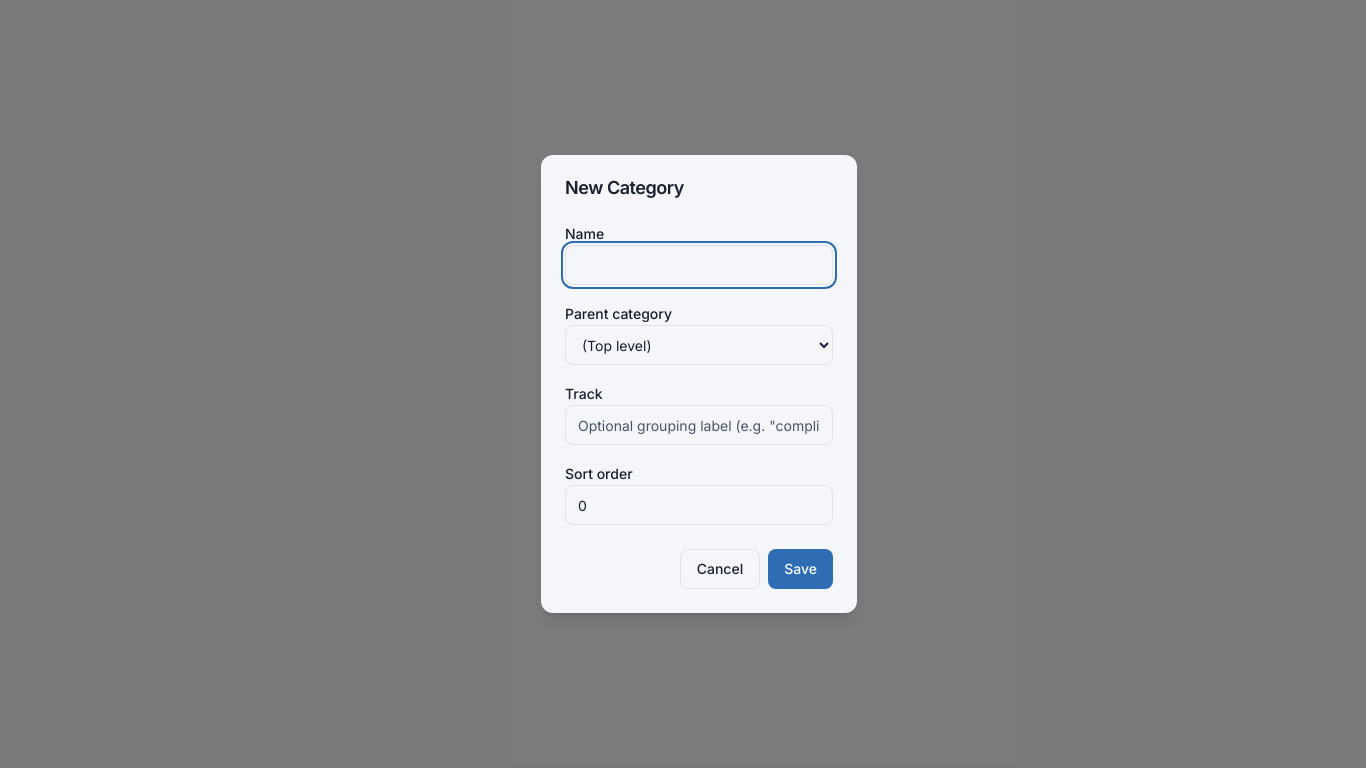
CategoryEditModal - create mode › shows the invalid-name error under Name when the API reports INVALID_NAME
Type "Server rejects me" into the field labelled "Name" at (699, 265), box x1=565 y1=245 x2=833 y2=285
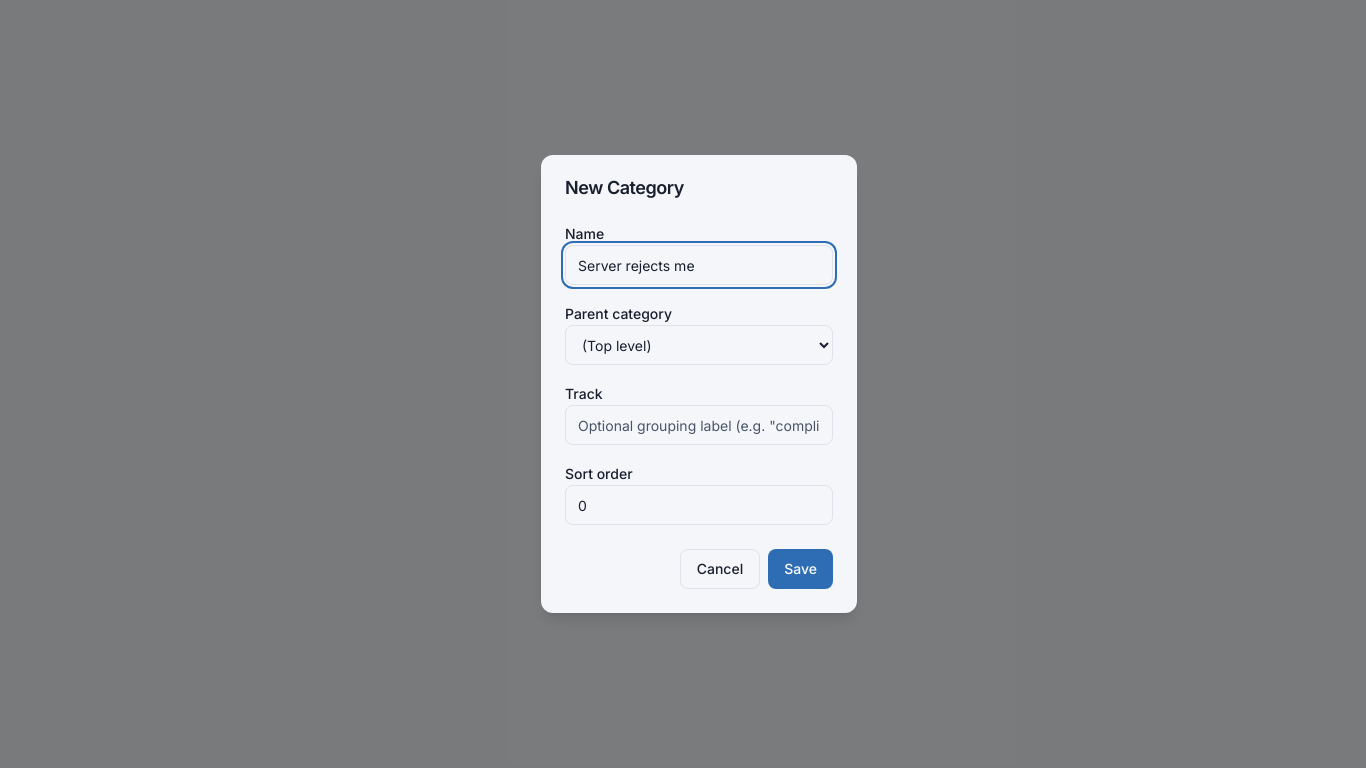
Click the button "Save" at (801, 569), box x1=768 y1=549 x2=833 y2=589
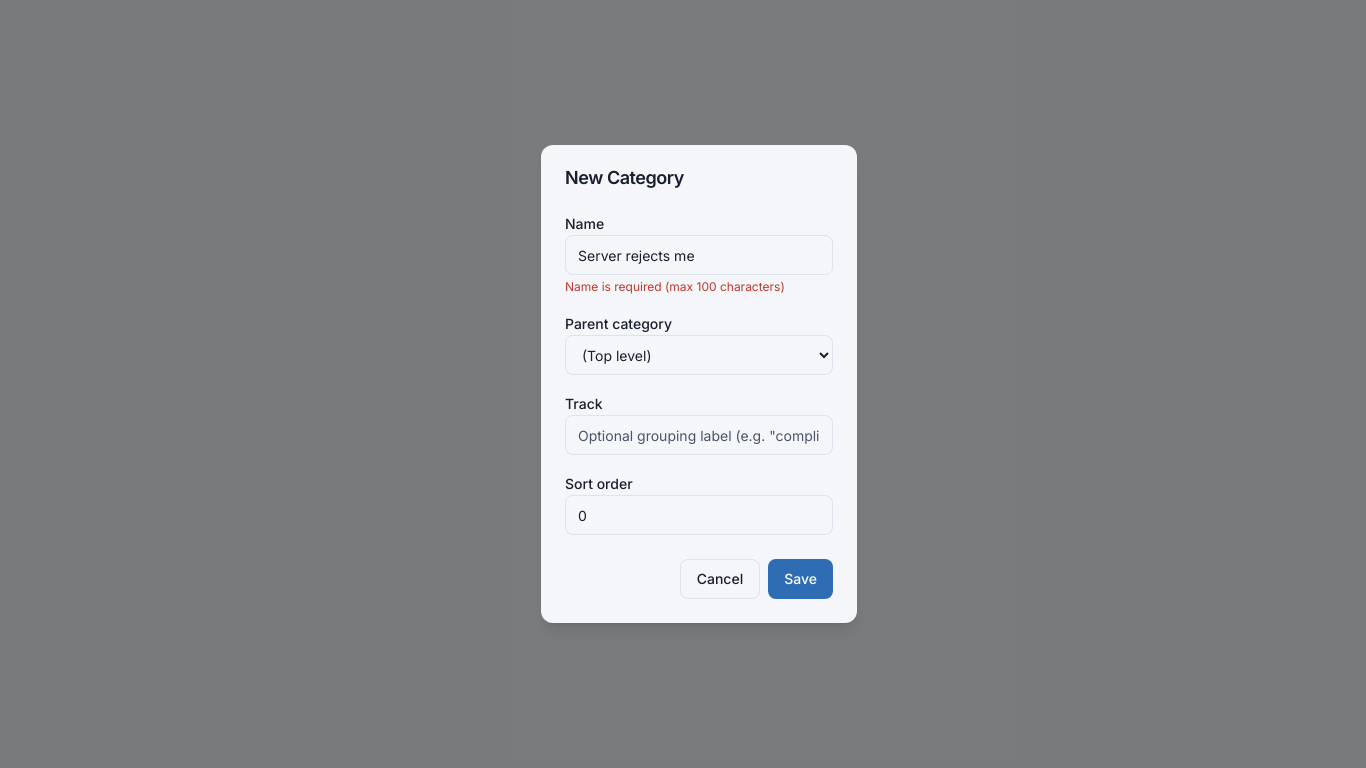
expect the text "Name is required (max 100 characters)" is shown: met, box x1=565 y1=279 x2=785 y2=294
